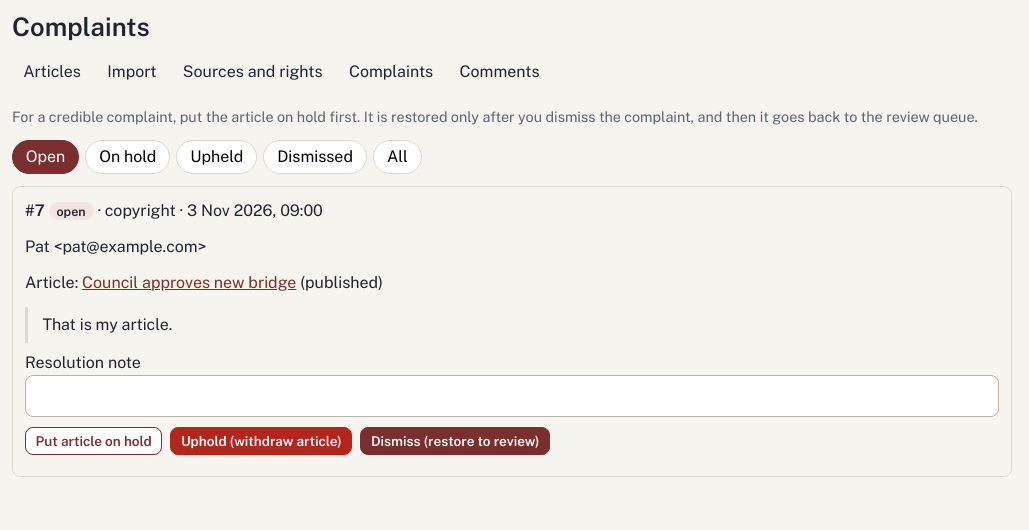
Scenario: Takedown queue › shows the server's reason when a decision fails
The image size is (1029, 530).
Click the button "Dismiss (restore to review)" at coordinates (455, 441), box x1=360 y1=427 x2=550 y2=455
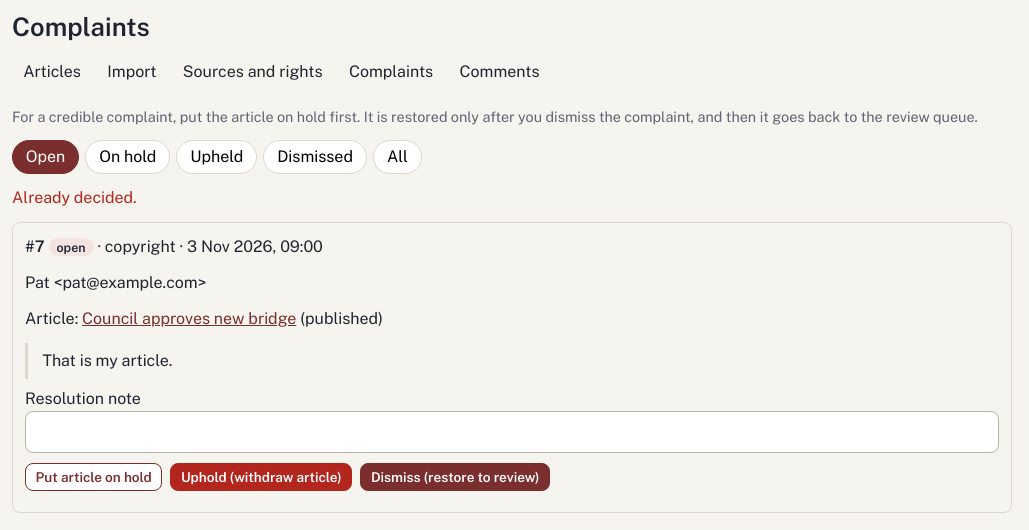
Result: the text "Already decided." is shown at x1=12 y1=188 x2=137 y2=206
